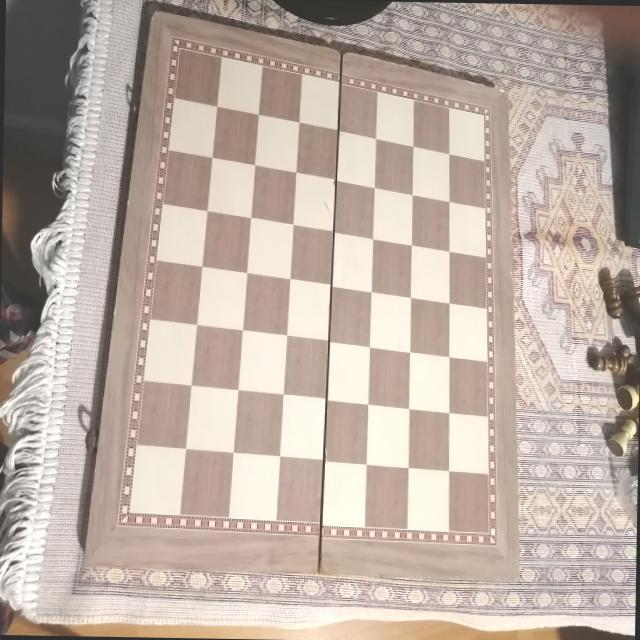corners: (72, 554, 101, 578), (505, 564, 529, 592), (490, 76, 512, 104), (142, 3, 164, 22)
